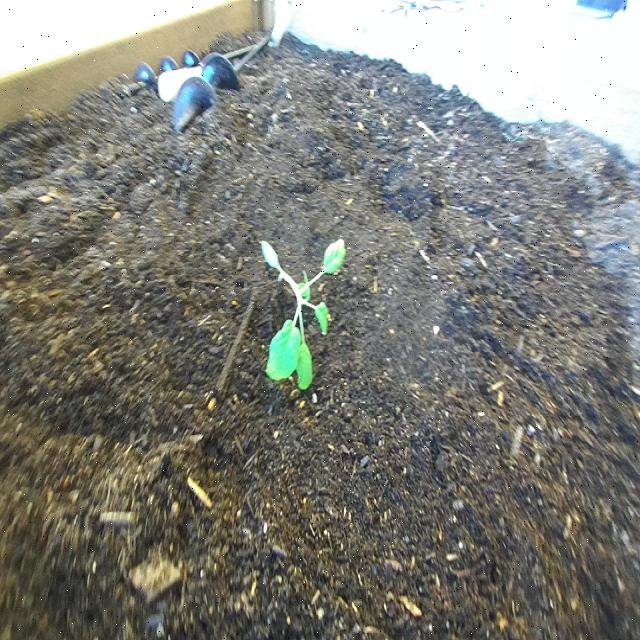Healthy: (250, 210, 355, 408)
